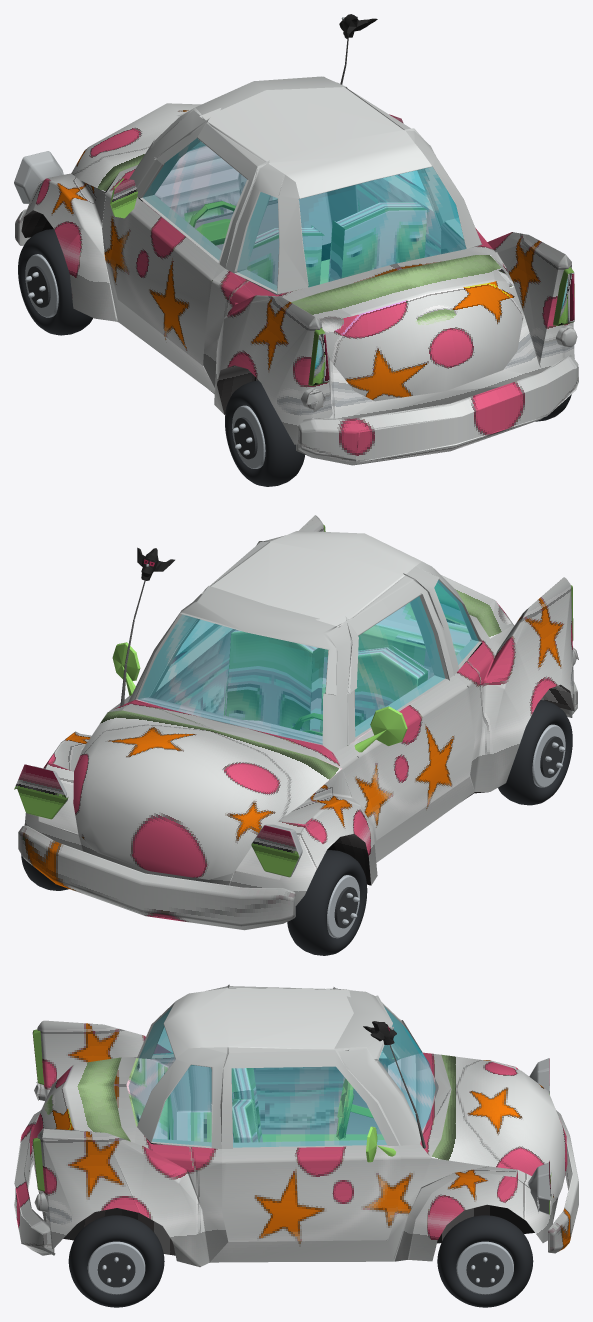
The model's file is car-krust_v.glb.
3 views of the same model, one above another, from view 1: azimuth 30°, elevation 25°; view 2: azimuth 150°, elevation 25°; view 3: azimuth 270°, elevation 25° (orthographic). The views are drawn at different scales.
Visible parts, largest first — view 1: krust_vShape.005, TrunkRotShape.018, krust_vShape.008, krust_vShape.009, krust_vShape.004, krust_vShape.007, DoorDRotShape.084, extrasShape.005, krust_vShape.003, DoorDRotShape.086, DoorDRotShape.085, HoodRotShape.020 (+12 smaller); view 2: HoodRotShape.020, krust_vShape.005, krust_vShape.007, krust_vShape.008, krust_vShape.009, extrasShape.005, DoorDRotShape.084, DoorDRotShape.086, DoorDRotShape.085, krust_vShape.003, Rounded tire.126, krust_vShape.001 (+14 smaller); view 3: krust_vShape.006, DoorPRotShape.090, krust_vShape.007, HoodRotShape.020, krust_vShape.009, DoorPRotShape.092, krust_vShape.008, krust_vShape.003, krust_vShape.005, DoorDRotShape.083, TrunkRotShape.018, DoorPRotShape.091 (+13 smaller).
Part boxes in pixels (x1,y1,x2,y2): krust_vShape.005: (24, 142, 574, 444); TrunkRotShape.018: (291, 255, 523, 401); krust_vShape.008: (190, 142, 466, 291); krust_vShape.009: (199, 82, 432, 198); krust_vShape.004: (296, 325, 578, 465); krust_vShape.007: (15, 76, 481, 294); DoorDRotShape.084: (110, 197, 224, 365); extrasShape.005: (247, 202, 427, 291); krust_vShape.003: (137, 144, 466, 294); DoorDRotShape.086: (143, 138, 246, 259); DoorDRotShape.085: (137, 118, 269, 268); HoodRotShape.020: (71, 103, 201, 191); HoodRotShape.020: (73, 710, 340, 879); krust_vShape.005: (78, 515, 574, 905); krust_vShape.007: (18, 535, 481, 930); krust_vShape.008: (138, 580, 478, 744); krust_vShape.009: (201, 531, 425, 627); extrasShape.005: (226, 630, 429, 732); DoorDRotShape.084: (348, 675, 474, 840); DoorDRotShape.086: (355, 596, 444, 736); DoorDRotShape.085: (345, 573, 454, 745); krust_vShape.003: (136, 602, 471, 795); Rounded tire.126: (287, 850, 367, 955); krust_vShape.001: (14, 524, 573, 877); krust_vShape.006: (42, 1128, 553, 1266); DoorPRotShape.090: (222, 1145, 400, 1241); krust_vShape.007: (137, 985, 578, 1253); HoodRotShape.020: (431, 1054, 567, 1197); krust_vShape.009: (163, 988, 353, 1058); DoorPRotShape.092: (232, 1067, 386, 1147); krust_vShape.008: (129, 1007, 435, 1146); krust_vShape.003: (126, 1052, 438, 1147); krust_vShape.005: (34, 1020, 558, 1248); DoorDRotShape.083: (253, 1058, 399, 1134); TrunkRotShape.018: (31, 1057, 130, 1167); DoorPRotShape.091: (222, 1047, 399, 1148).
Bounding box in the file's own units: 2.27 × 2.05 × 3.9.
13 materials, 10 textured.
